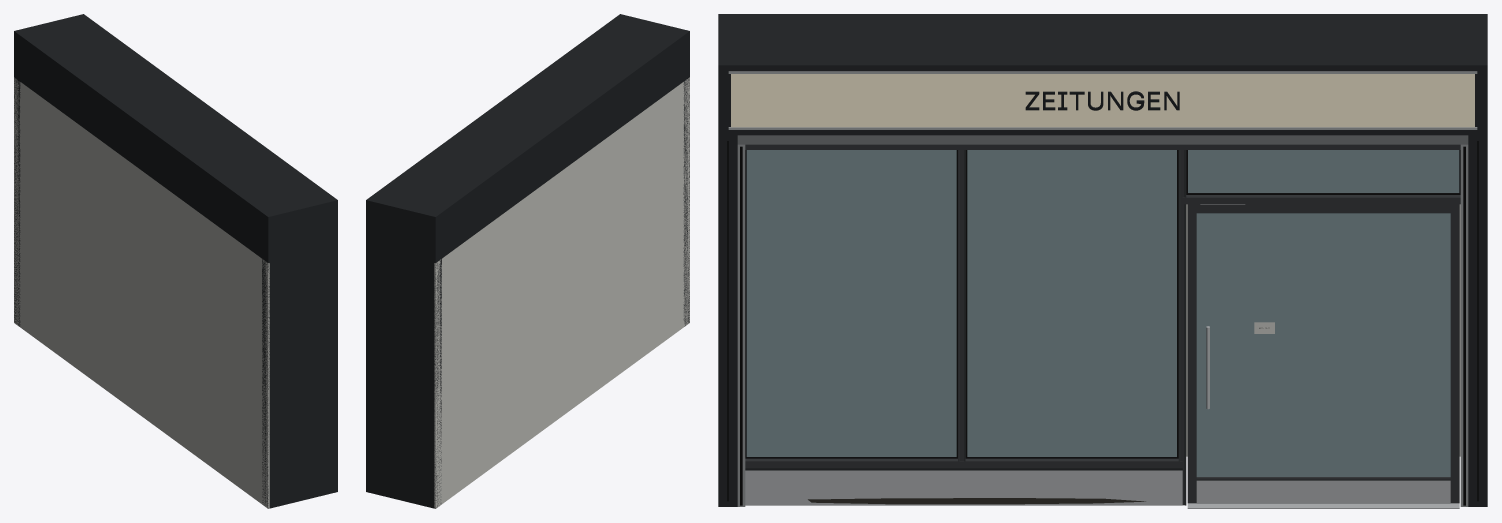
The model's file is storefront_a.glb.
3 views of the same model, side by side, from view 1: azimuth 30°, elevation 25°; view 2: azimuth 150°, elevation 25°; view 3: azimuth 270°, elevation 25° (orthographic). The views are drawn at different scales.
Visible parts, largest first — view 1: laden_a_0, laden_a_1; view 2: laden_a_0, laden_a_1; view 3: laden_a_5, laden_a_1, laden_a_9, laden_a_4, laden_a_3, laden_a_8, laden_a_7, laden_a_10, laden_a_6, laden_a_2, laden_a_11, name (+1 smaller).
Boxes of the visible parts, box(x1,y1,x2,y2) form: laden_a_0: box(14, 77, 269, 508); laden_a_1: box(14, 14, 337, 508); laden_a_0: box(434, 77, 689, 508); laden_a_1: box(366, 14, 689, 508); laden_a_5: box(746, 150, 1459, 476); laden_a_1: box(718, 14, 1487, 506); laden_a_9: box(731, 74, 1474, 127); laden_a_4: box(745, 144, 1460, 505); laden_a_3: box(745, 326, 1459, 508); laden_a_8: box(737, 135, 1468, 144); laden_a_7: box(737, 144, 1468, 506); laden_a_10: box(728, 71, 1477, 129); laden_a_6: box(745, 150, 1460, 458); laden_a_2: box(727, 141, 1478, 505); laden_a_11: box(808, 498, 1145, 504); name: box(1025, 91, 1179, 110).
Bounding box in the file's own units: 0.98 × 3.8 × 6.
